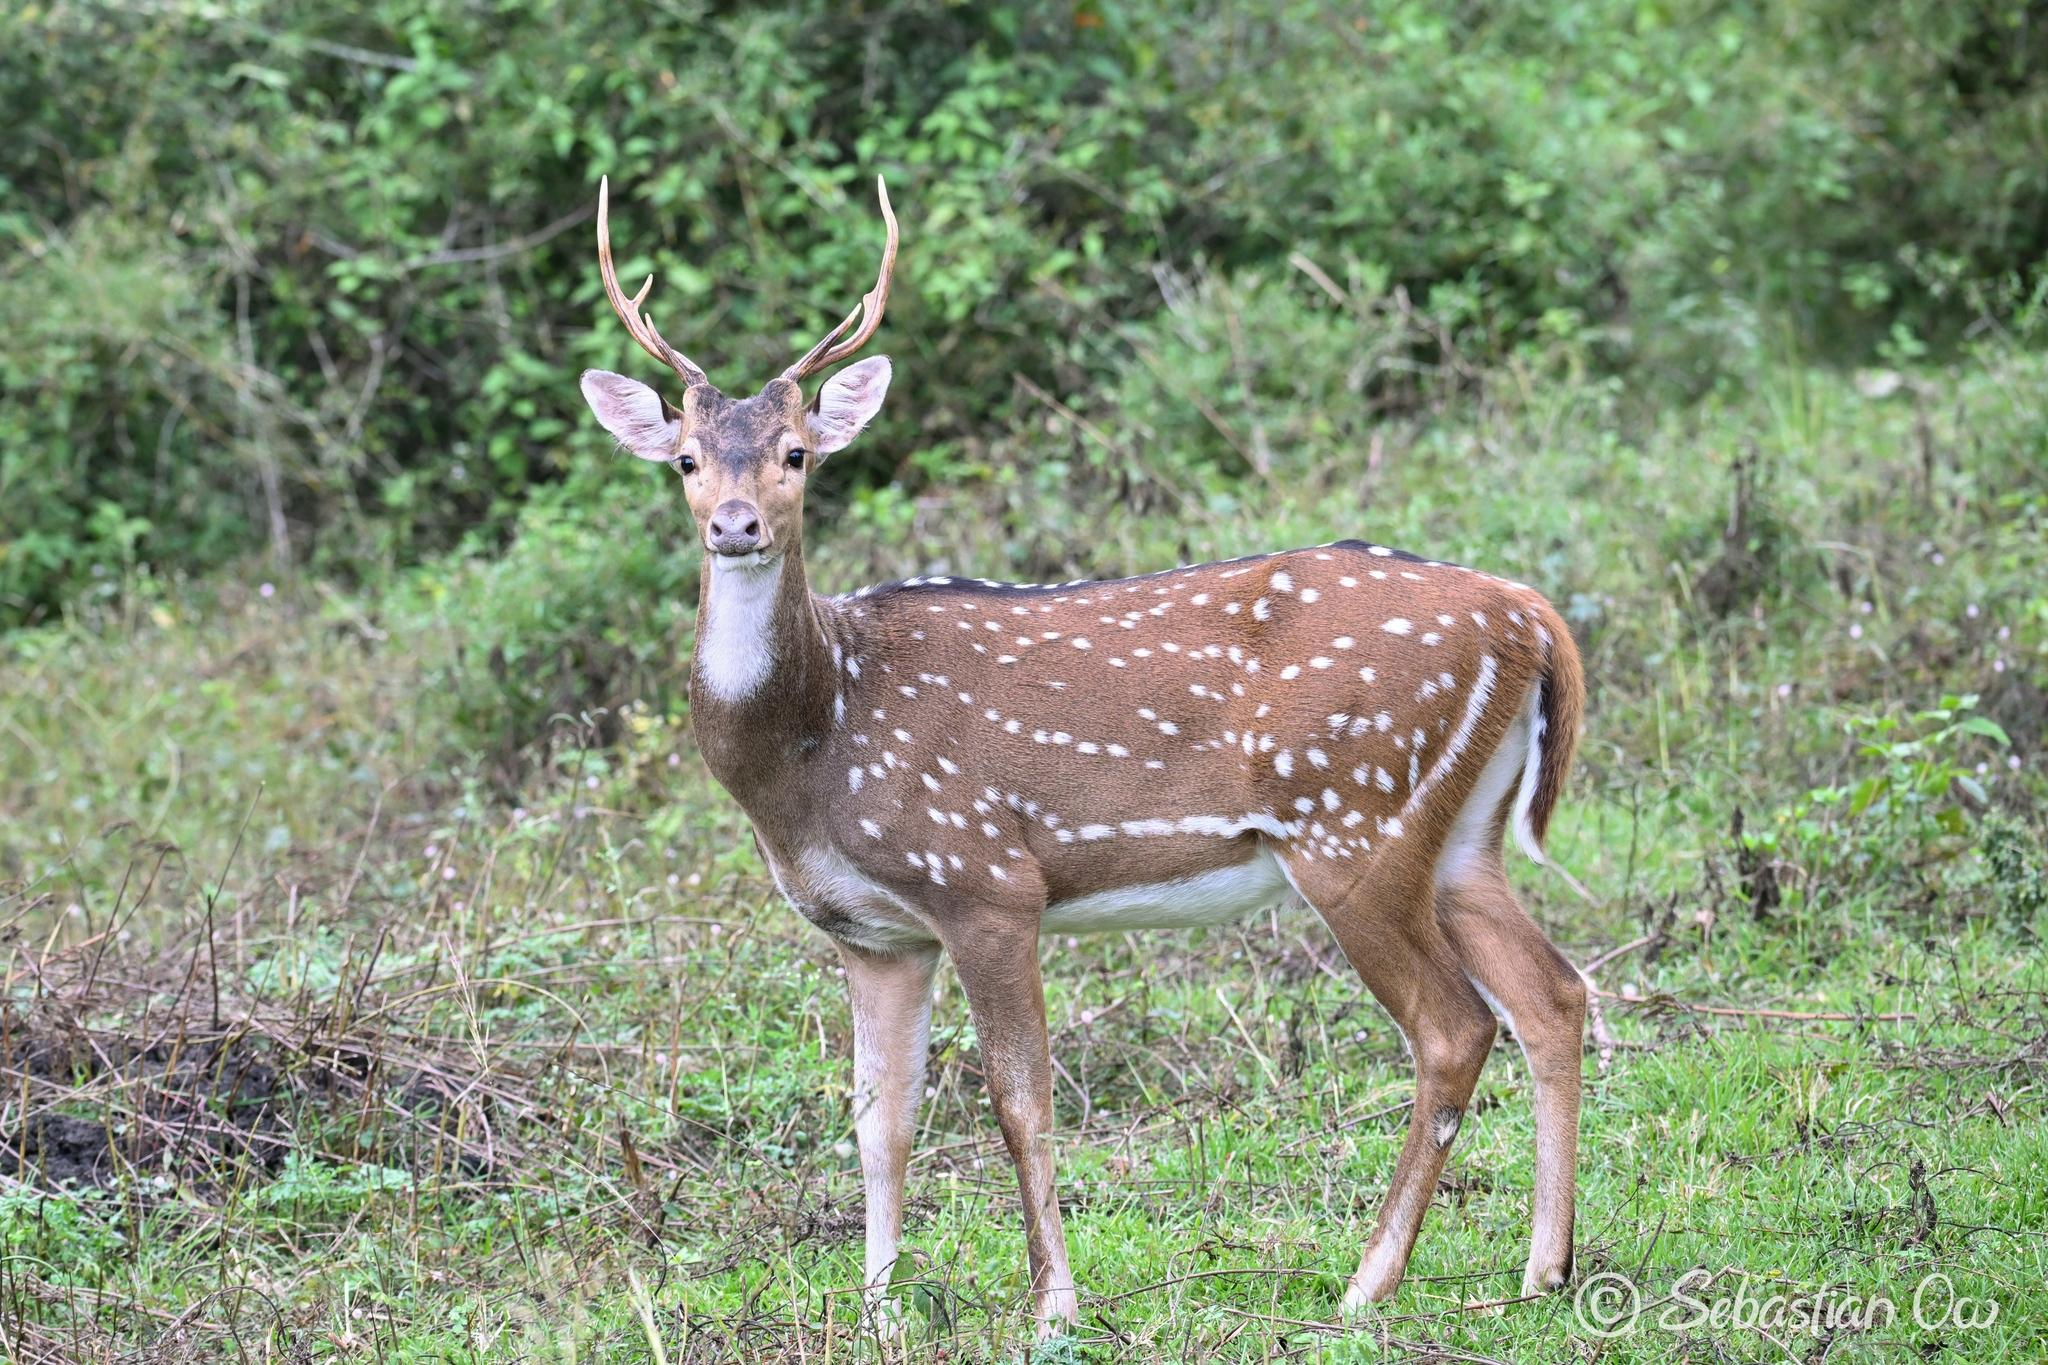Deer: (582, 178, 1587, 1335)
